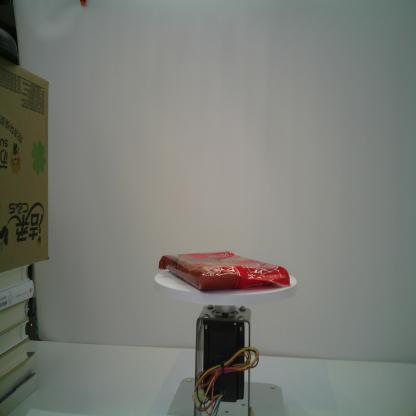Dessert: (159, 250, 291, 292)
